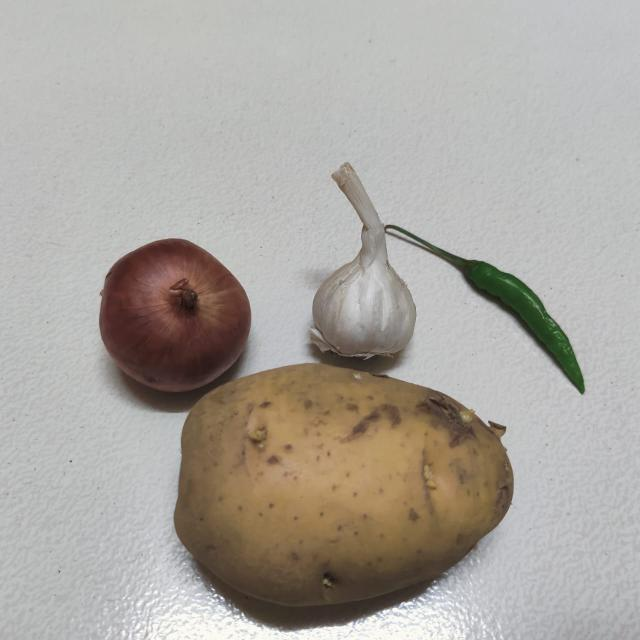Organik: (172, 372, 525, 618), (417, 215, 615, 395), (87, 230, 259, 398), (316, 146, 417, 376)
